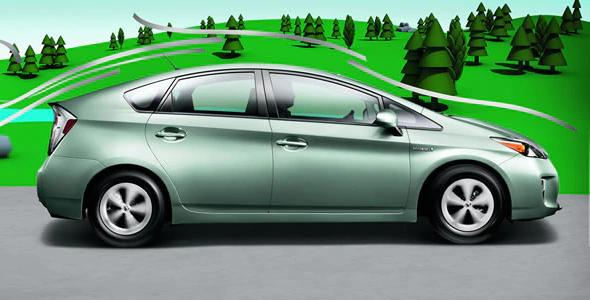Toyota Prius: (33, 61, 564, 247)
